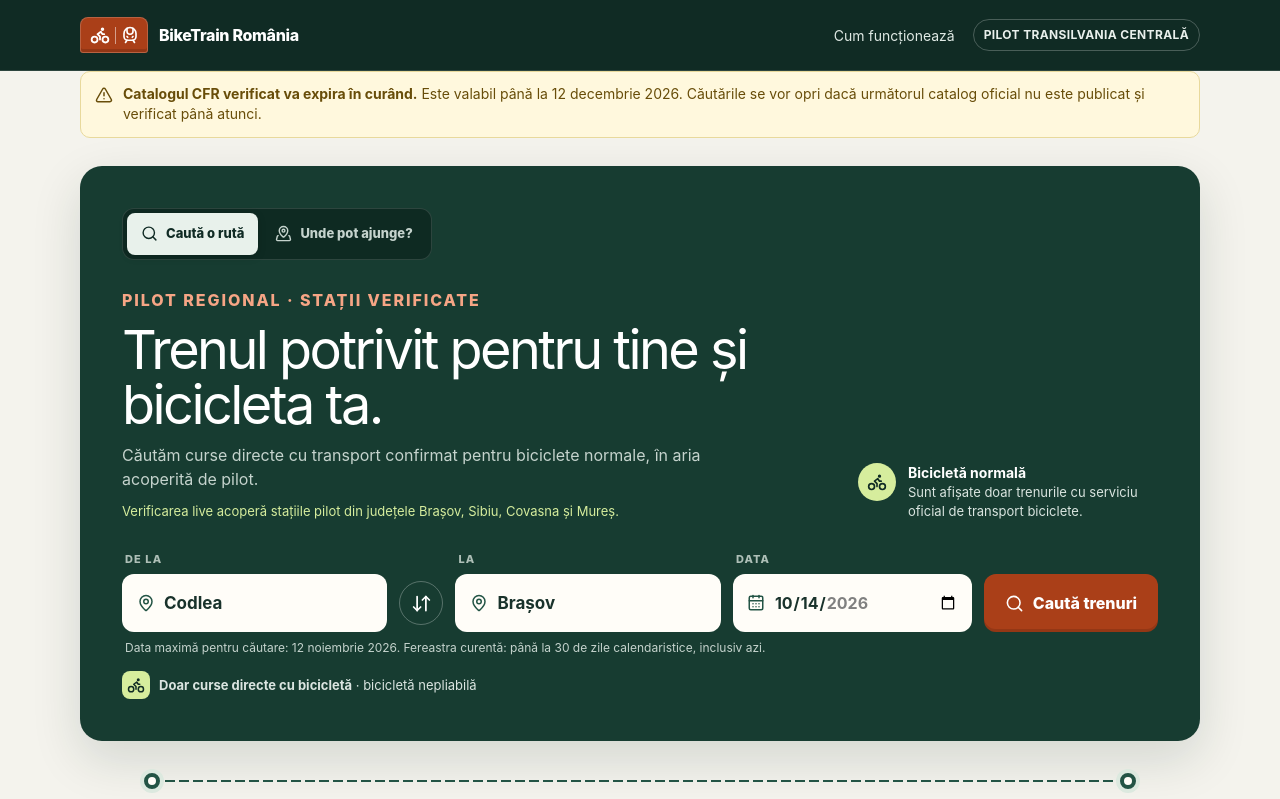
Test: BikeTrain app › refreshes an already submitted destination search when its date becomes past at Romanian midnight
Click the tab "Unde pot ajunge?" at (344, 234), box top-left (261, 213), bottom-right (427, 255)
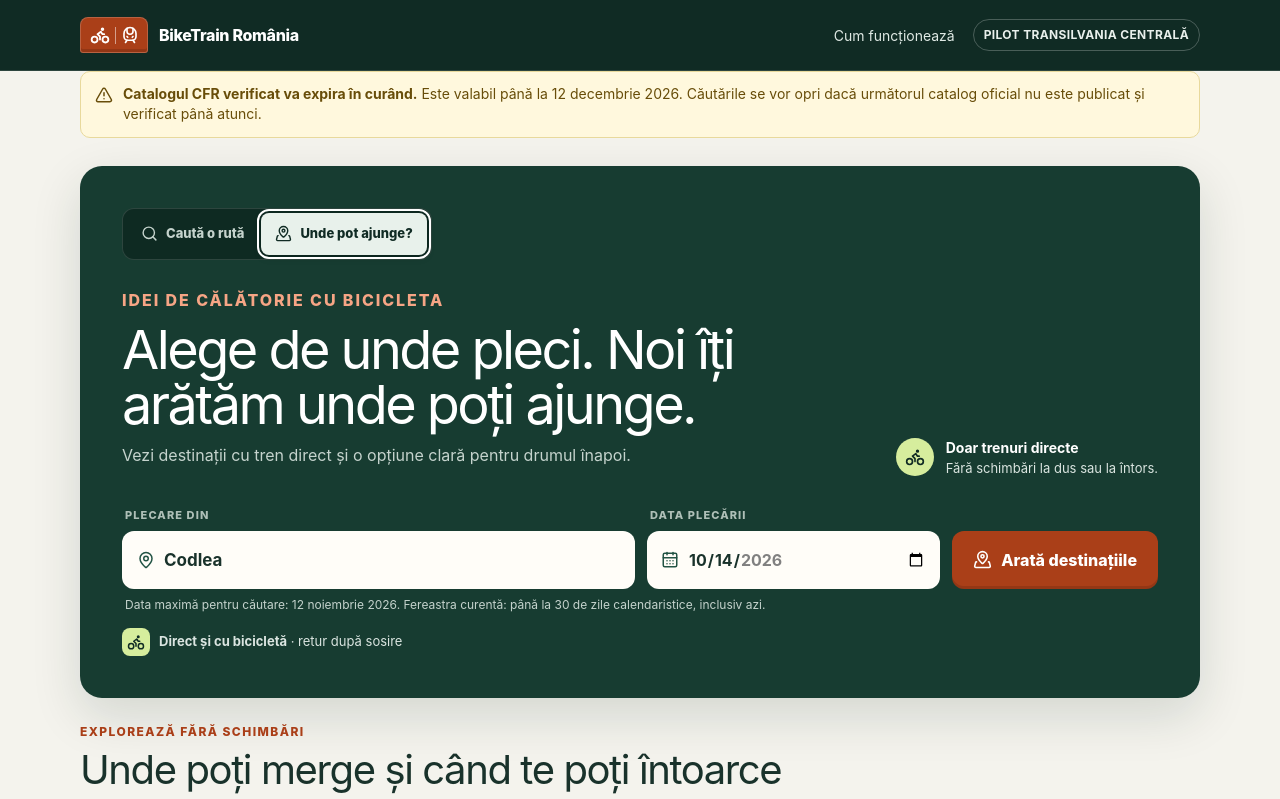
Click the button "Arată destinațiile" at (1055, 560), box top-left (952, 531), bottom-right (1158, 589)
Wait 61000 ms
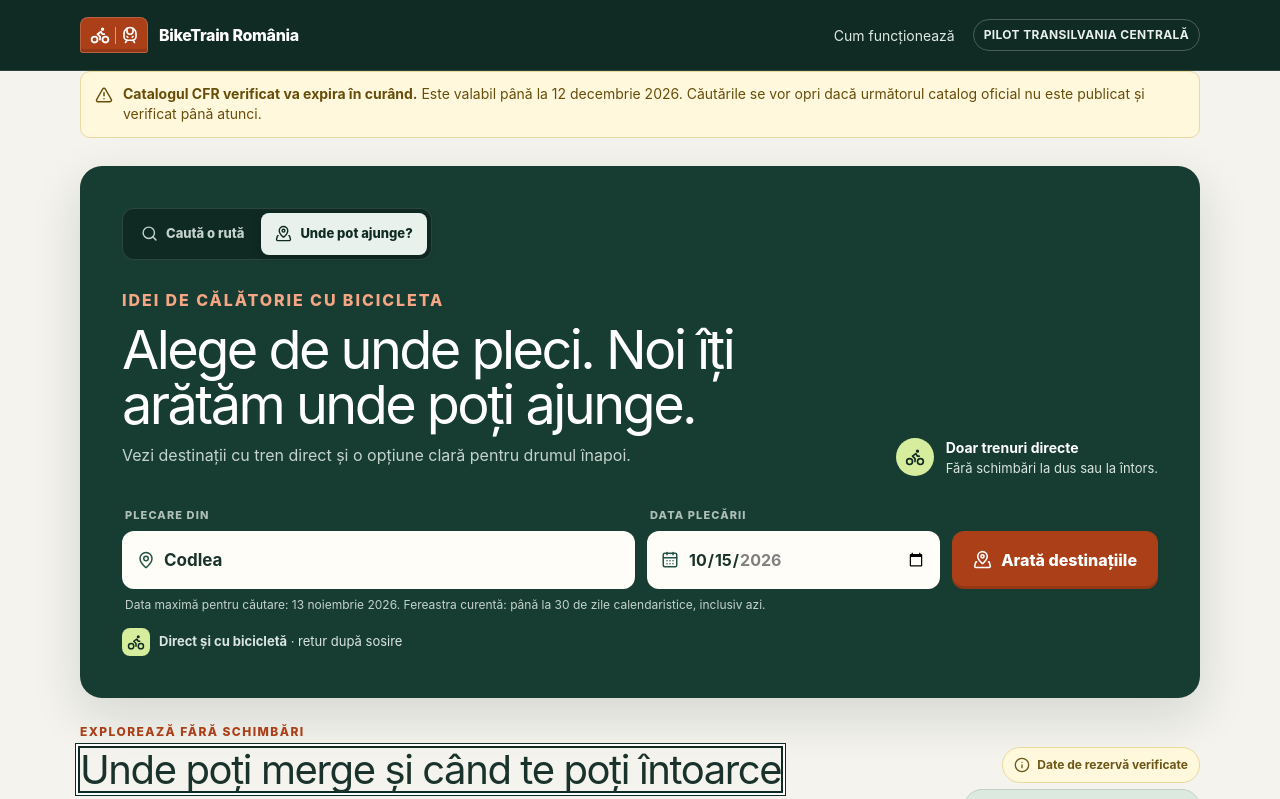
Expected: the date field labelled "Data plecării" holds "2026-10-15", top-left (688, 548), bottom-right (926, 572)
